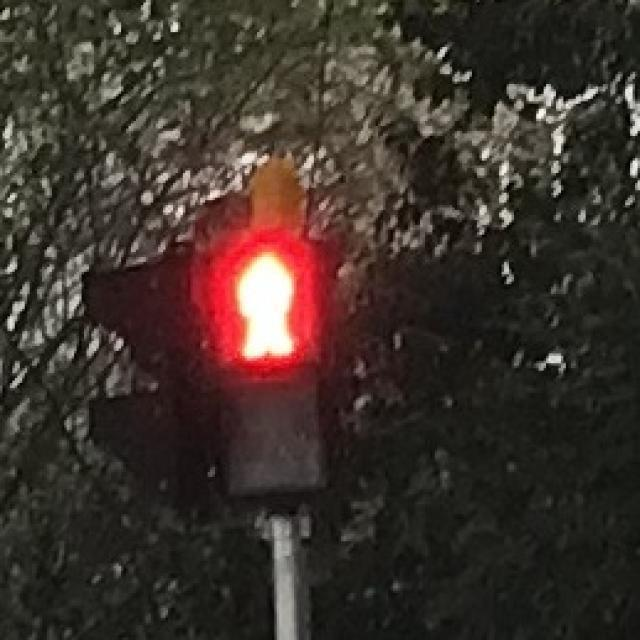red-crossing: (202, 232, 318, 376)
